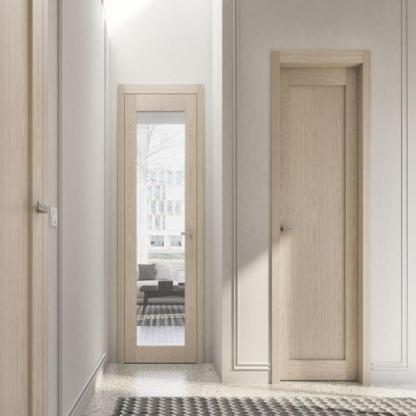door: (263, 46, 373, 390), (112, 78, 210, 373)
